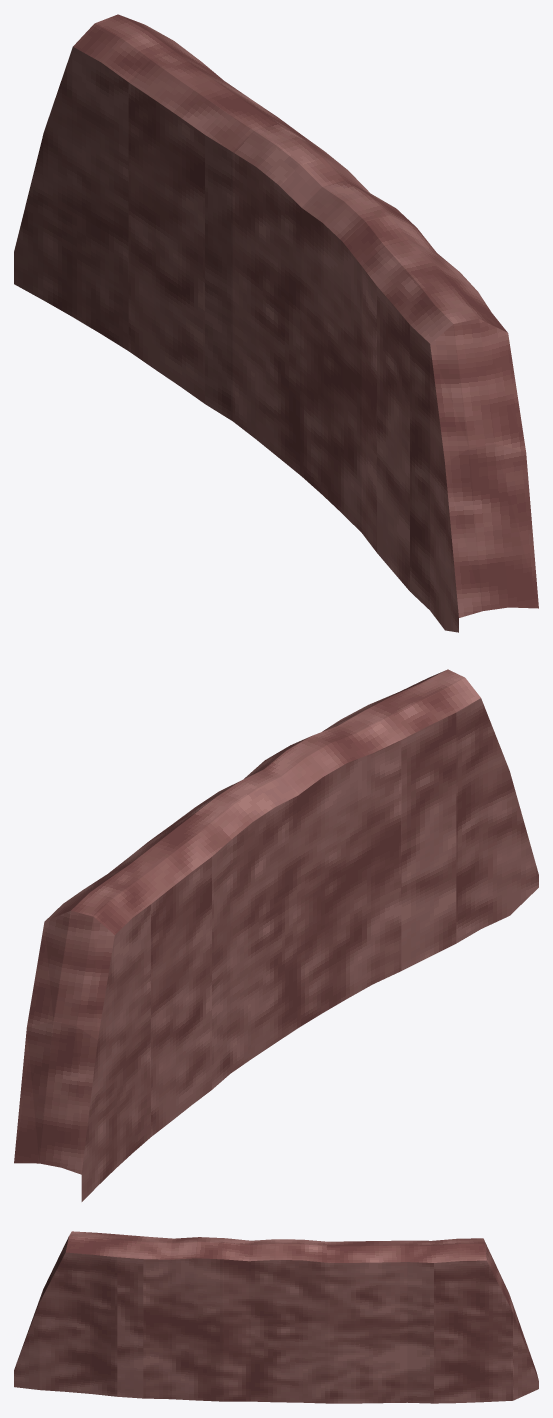
Rendered from map_base_lip013.glb.
3 renders of one model, top to bottom at view 1: azimuth 30°, elevation 25°; view 2: azimuth 150°, elevation 25°; view 3: azimuth 270°, elevation 25°, orthographic. The views are drawn at different scales.
Parts seen in each view (by area): view 1: MapBaseLip013Rock; view 2: MapBaseLip013Rock; view 3: MapBaseLip013Rock.
Part boxes in pixels (x1=…): MapBaseLip013Rock: x1=14, y1=14, x2=538, y2=632; MapBaseLip013Rock: x1=14, y1=669, x2=538, y2=1201; MapBaseLip013Rock: x1=14, y1=1231, x2=538, y2=1403.
Size of what is drawn, in the model's own units: 2.85 by 5.89 by 18.43.
Materials: 2 (2 with a texture image).
